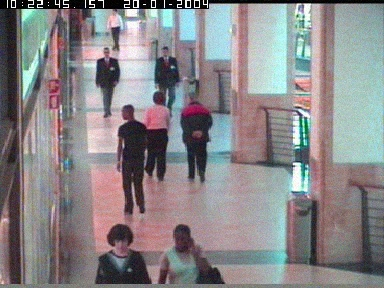person: (156, 222, 226, 284), (117, 105, 147, 217), (94, 223, 150, 282), (180, 94, 213, 182), (141, 90, 169, 182), (96, 46, 120, 117), (155, 47, 179, 115), (105, 9, 123, 51)
